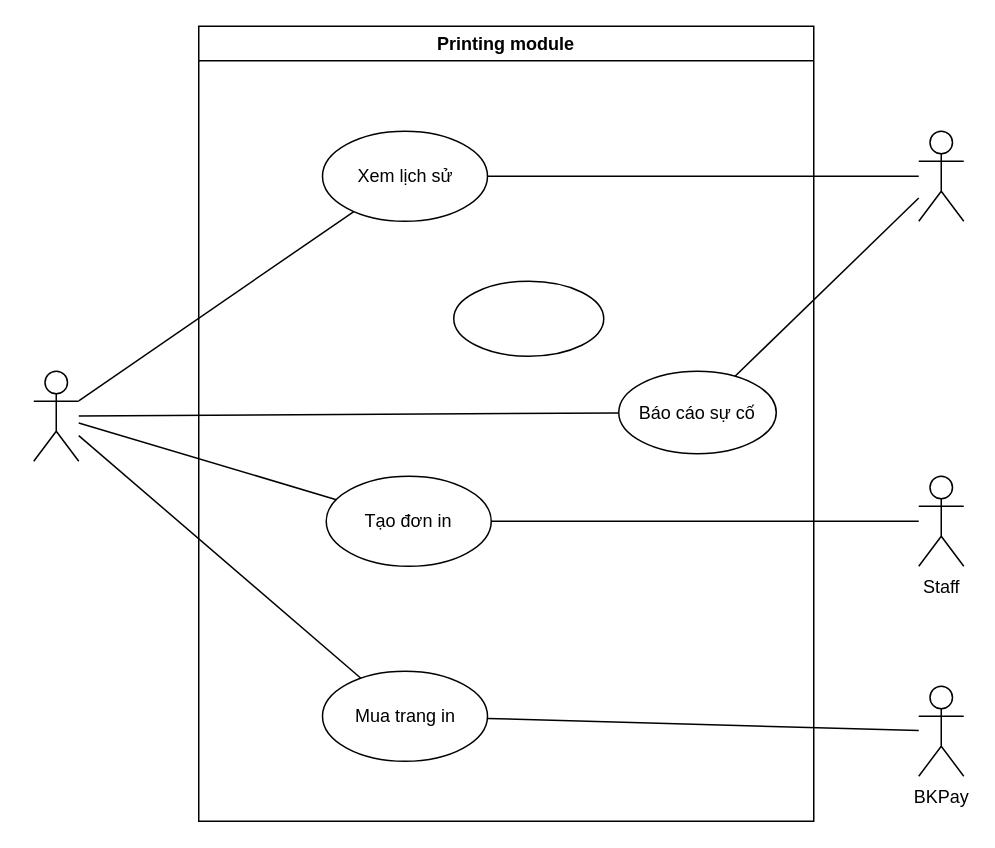
Some shapes in this 995 by 848 pixel diagram are drawn without their labels. Here are the shapes that lost their labels. From the top down, the centre of each, then its label:
At pixel 940 175: "SPSO".
At pixel 528 318: "Xem theo điều kiện".
At pixel 55 415: "Student".
